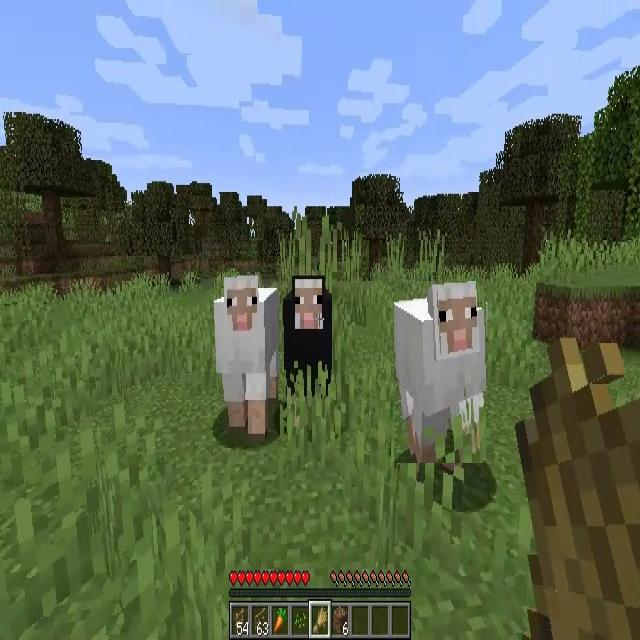sheep: (394, 281, 486, 463), (216, 276, 280, 436), (283, 276, 334, 404)
